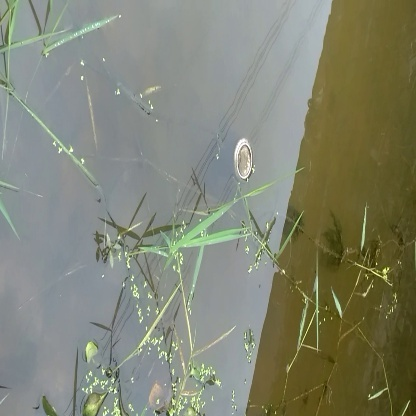bottle: (226, 130, 262, 185)
